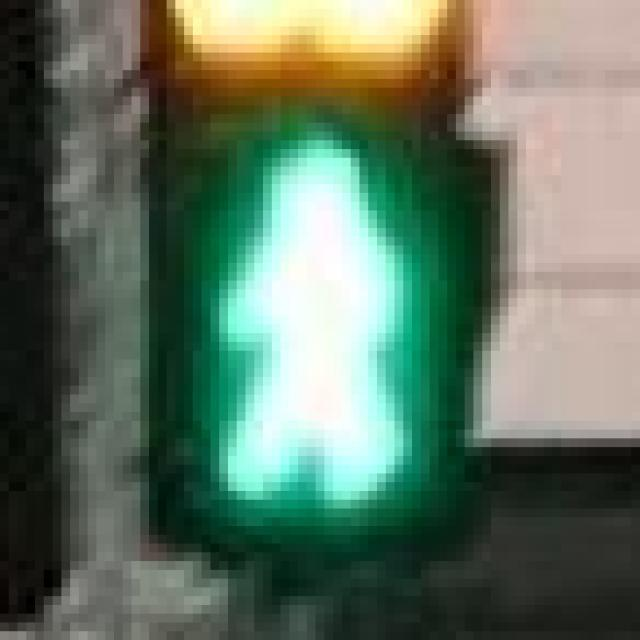geen-crossing: (158, 96, 464, 526)
